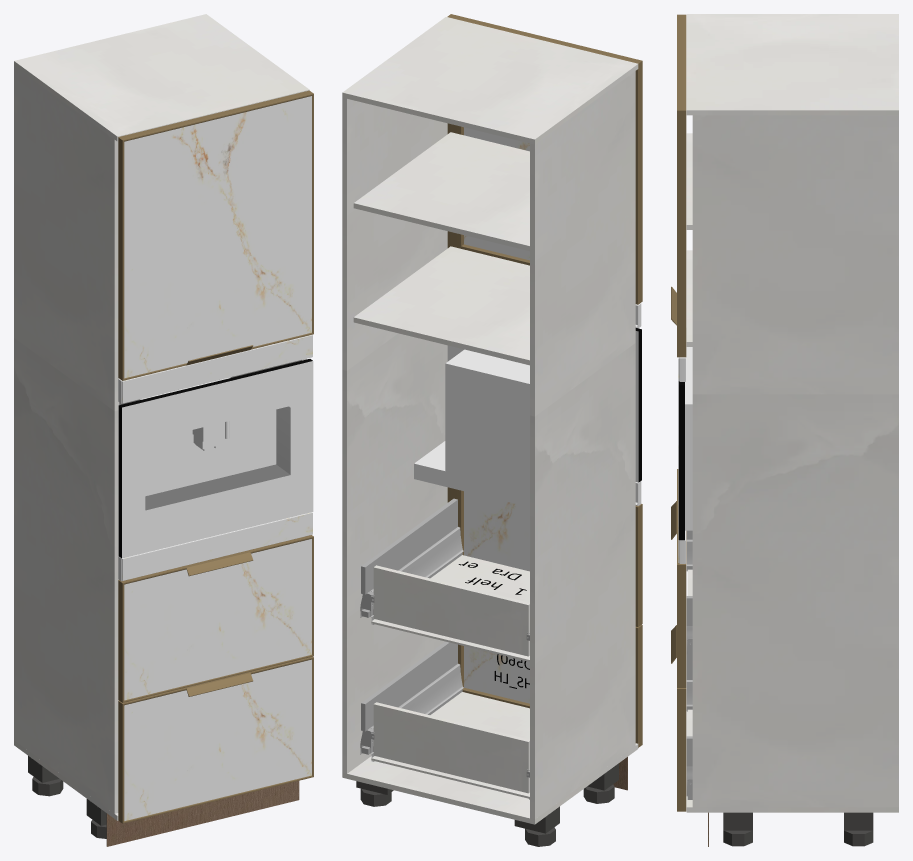
Rendered from TC-CF-TTS-ST-1SX-2HB-LHS-600-2040-560-15.glb.
3 renders of one model, left to right at view 1: azimuth 30°, elevation 25°; view 2: azimuth 150°, elevation 25°; view 3: azimuth 270°, elevation 25°, orthographic. The views are drawn at different scales.
Visible parts, largest first — view 1: TP_node_0, Object_node_75, Object_node_73, Object_node_71, TP, SKP_Component2, SKP_Component1, TP_node_8, TP_node_9, Object_node_77, SKP_Component3, Extrusion_node_18 (+7 smaller); view 2: TP_node_0, TP_node_1, TP, TP_node_6, TP_node_7, SKP_Component4, TP_node_3, TP_node_5, TP_node, Object_node_73, TP_node_2, TP_node_4 (+12 smaller); view 3: TP_node_1, TP, Extrusion_node_16, TP_node, SKP_Component4, Extrusion_node_2, Extrusion_node_9, SKP_Component0, Extrusion_node_17, TP_node_6, TP_node_7, Plate_node_1 (+3 smaller).
Part boxes in pixels (x1=…): TP_node_0: x1=14, y1=66, x2=119, y2=813; Object_node_75: x1=124, y1=96, x2=311, y2=378; Object_node_73: x1=124, y1=539, x2=311, y2=700; Object_node_71: x1=124, y1=659, x2=311, y2=820; TP: x1=14, y1=14, x2=309, y2=141; SKP_Component2: x1=122, y1=361, x2=313, y2=558; SKP_Component1: x1=145, y1=406, x2=290, y2=526; TP_node_8: x1=122, y1=512, x2=312, y2=580; TP_node_9: x1=122, y1=335, x2=312, y2=403; Object_node_77: x1=106, y1=781, x2=299, y2=846; SKP_Component3: x1=145, y1=464, x2=289, y2=510; Extrusion_node_18: x1=118, y1=137, x2=124, y2=380; TP_node_0: x1=530, y1=71, x2=635, y2=819; TP_node_1: x1=342, y1=97, x2=447, y2=773; TP: x1=342, y1=17, x2=638, y2=144; TP_node_6: x1=353, y1=246, x2=529, y2=365; TP_node_7: x1=353, y1=132, x2=529, y2=250; SKP_Component4: x1=445, y1=331, x2=638, y2=493; TP_node_3: x1=373, y1=702, x2=529, y2=793; TP_node_5: x1=373, y1=565, x2=529, y2=656; TP_node: x1=342, y1=743, x2=638, y2=824; Object_node_73: x1=464, y1=491, x2=529, y2=571; TP_node_2: x1=371, y1=692, x2=529, y2=798; TP_node_4: x1=371, y1=555, x2=529, y2=661; TP_node_1: x1=692, y1=115, x2=898, y2=807; TP: x1=686, y1=14, x2=898, y2=115; Extrusion_node_16: x1=677, y1=110, x2=686, y2=357; TP_node: x1=686, y1=711, x2=898, y2=812; SKP_Component4: x1=685, y1=328, x2=692, y2=514; Extrusion_node_2: x1=677, y1=689, x2=686, y2=811; Extrusion_node_9: x1=677, y1=565, x2=686, y2=687; SKP_Component0: x1=678, y1=381, x2=684, y2=540; Extrusion_node_17: x1=677, y1=14, x2=686, y2=110; TP_node_6: x1=686, y1=250, x2=692, y2=346; TP_node_7: x1=686, y1=133, x2=692, y2=229; Plate_node_1: x1=723, y1=812, x2=752, y2=830.
Size of what is drawn, in the model's own units: 0.6 by 2.14 by 0.6.
Materials: 9 (3 with a texture image).
